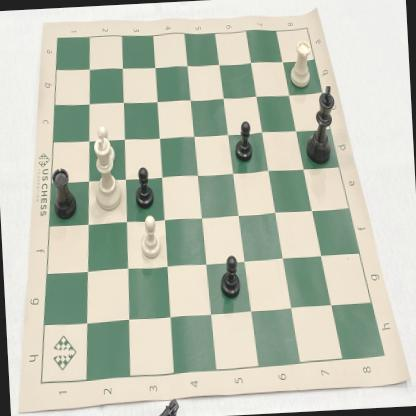black-king: (299, 78, 340, 170)
black-pawn: (214, 249, 245, 304), (229, 110, 257, 169), (129, 157, 157, 213)
black-rook: (42, 157, 80, 222)
white-king: (84, 130, 126, 215)
white-pawn: (136, 212, 166, 263), (90, 122, 119, 171)
white-rook: (284, 35, 314, 94)
